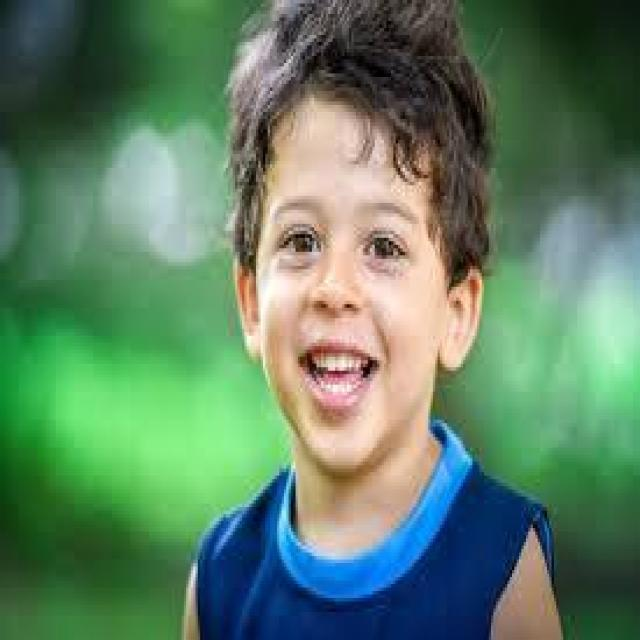person: (165, 14, 542, 636)
